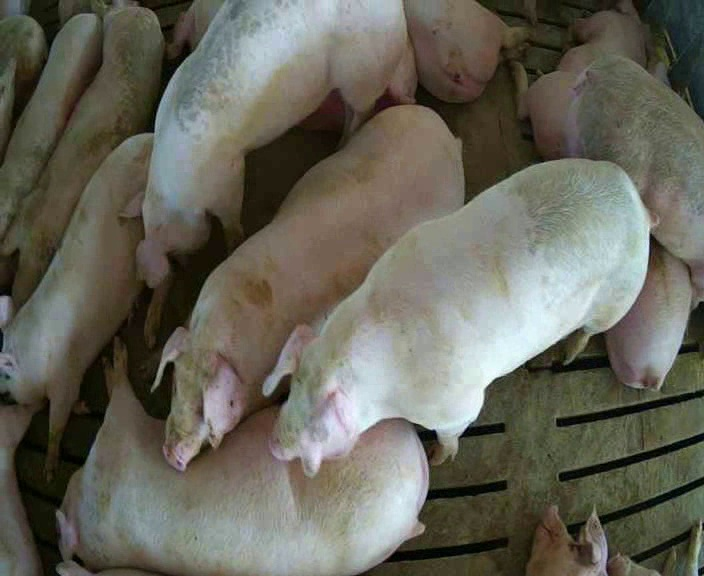pig: (264, 161, 649, 474), (155, 105, 462, 470), (57, 336, 427, 574), (119, 2, 406, 286), (2, 7, 163, 307), (577, 57, 703, 299), (0, 15, 101, 239), (509, 1, 649, 157), (606, 239, 692, 389), (404, 2, 529, 102), (526, 505, 607, 575), (0, 15, 47, 110)
